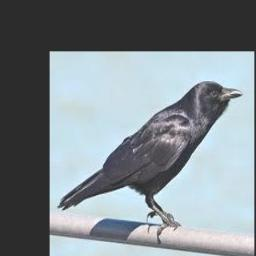Crow: (57, 81, 243, 234)
